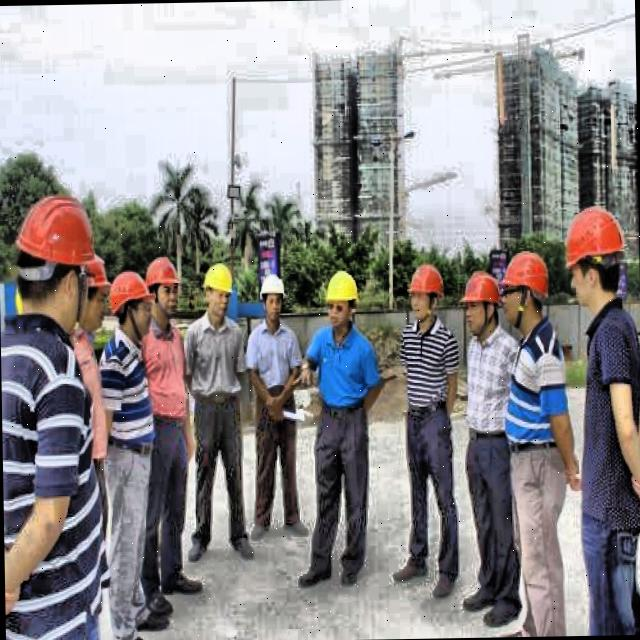helmet: (8, 192, 98, 326), (560, 206, 628, 315), (499, 249, 548, 333), (74, 252, 110, 341), (112, 273, 150, 345), (460, 268, 498, 335), (404, 262, 446, 322), (322, 267, 359, 334), (147, 252, 182, 318), (200, 260, 238, 320), (256, 262, 288, 324)
